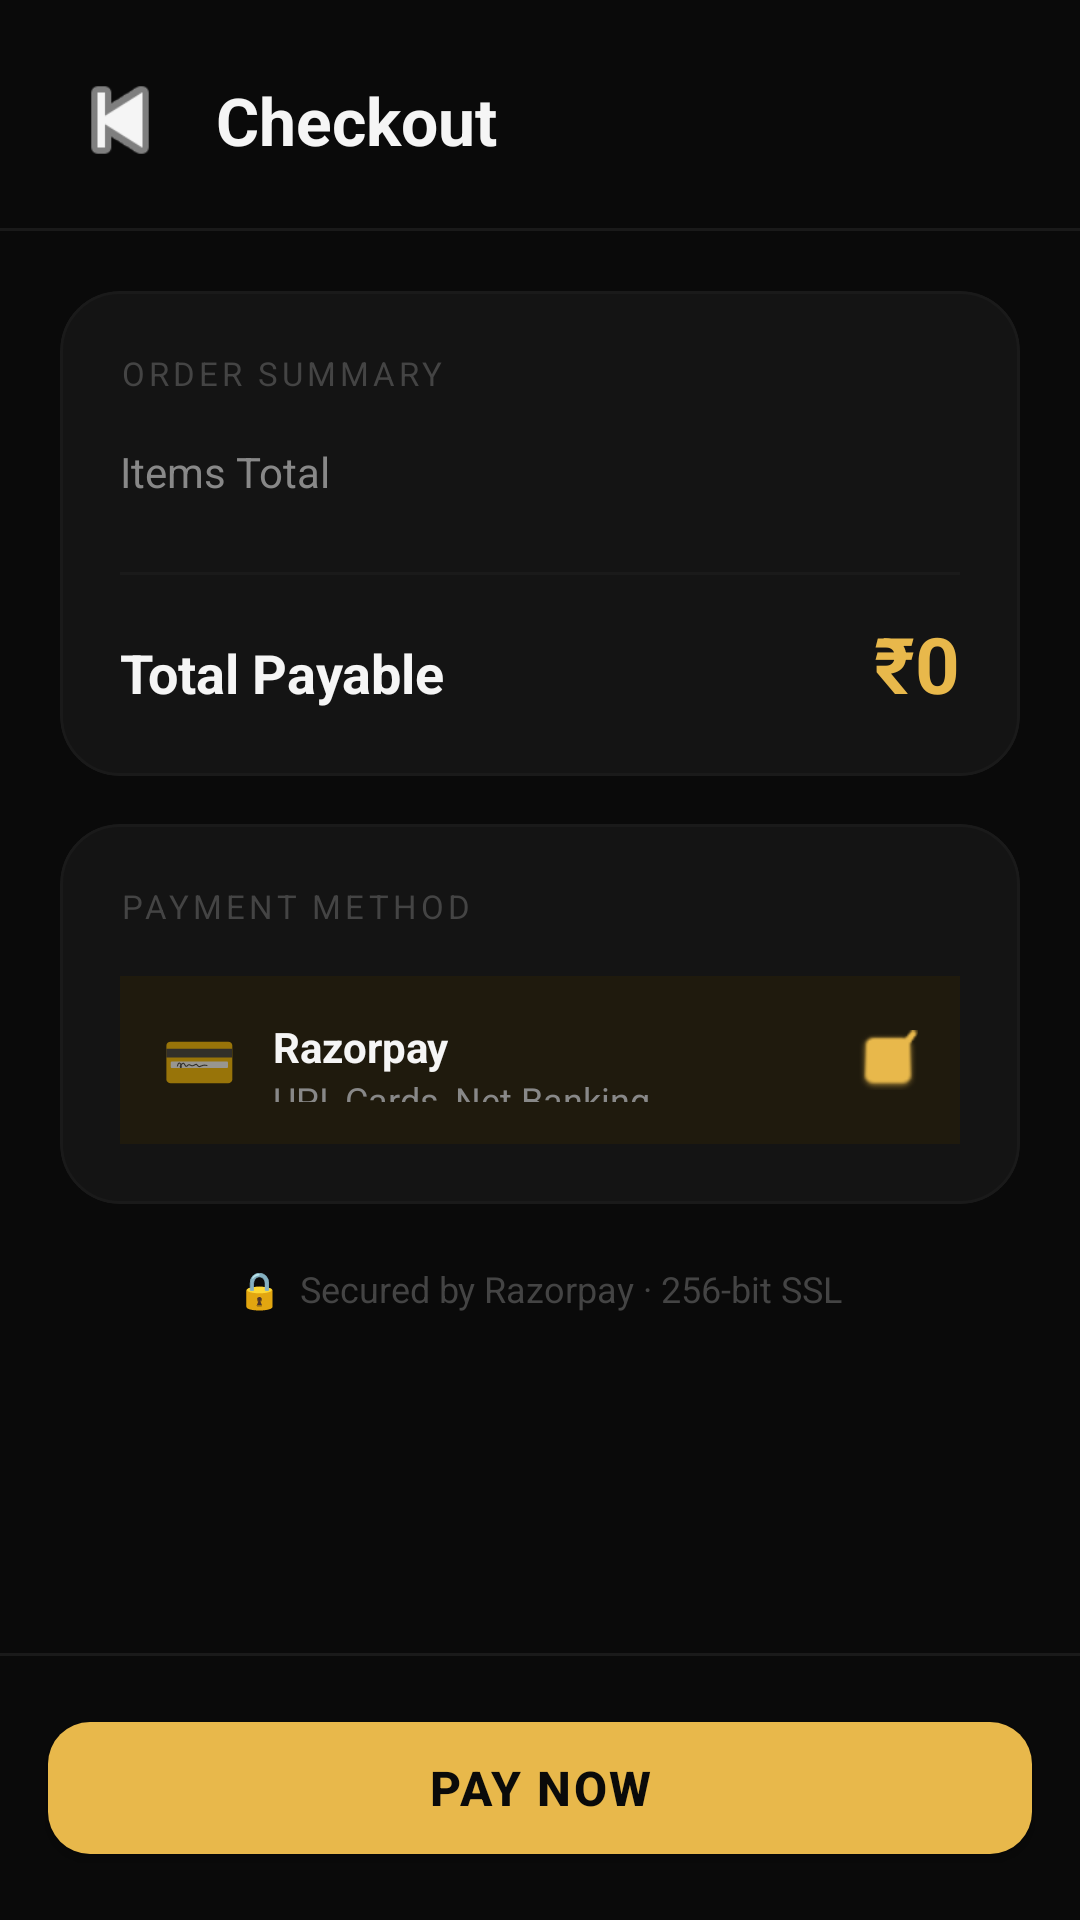

Locate icon controls on the screen. Image size 1080 x 1920, boxes as (x1=x1, y1=y1, x2=x2, y2=y2).
previous: (x1=91, y1=86, x2=149, y2=154)
